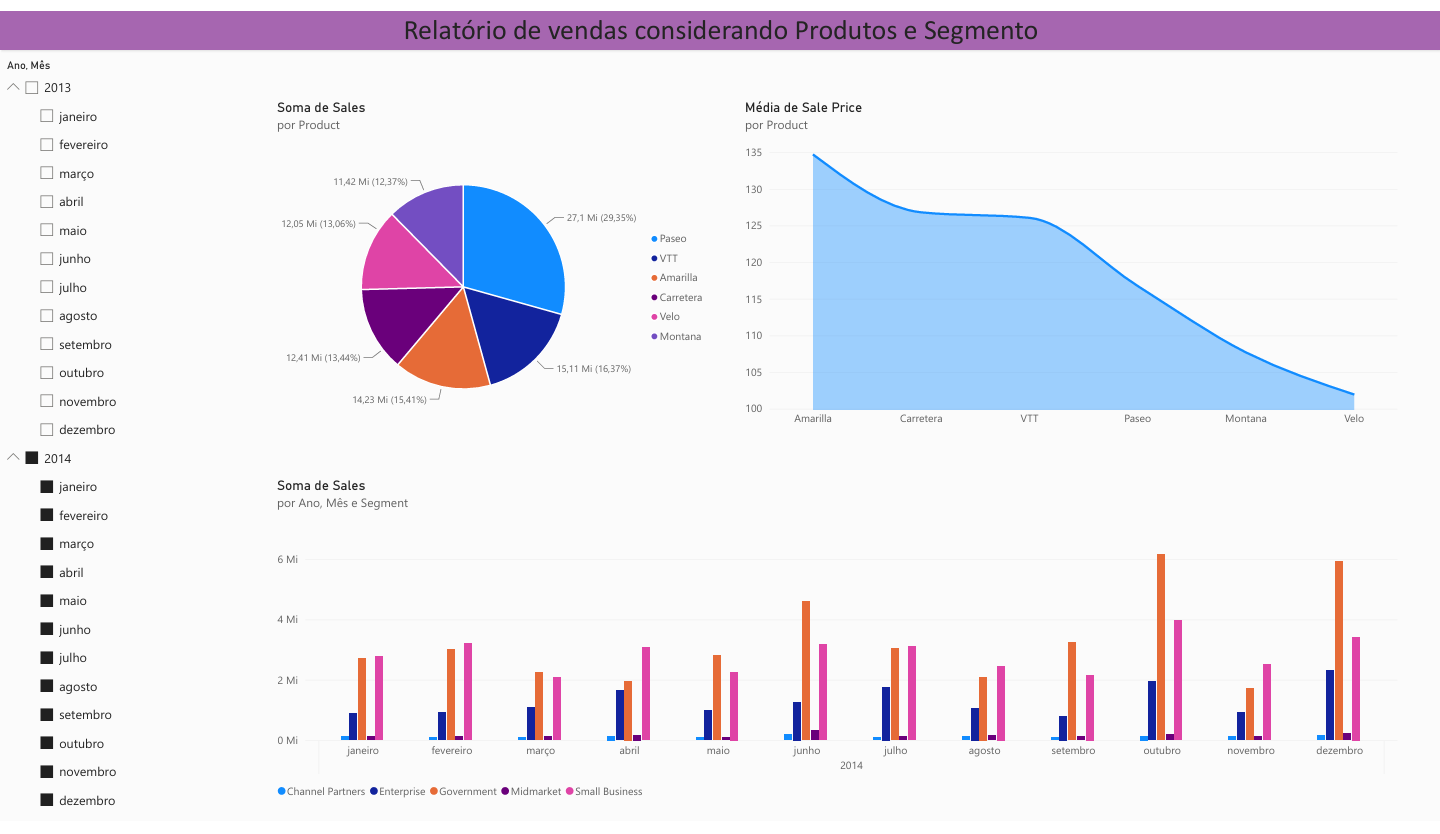

What the dashboard file says about the page in this screenshot:
{"tool":"powerbi","page":{"name":"Página 1","canvas":[1920,1080],"ordinal":0},"visuals":[{"type":"pieChart","fields":{"Category":["financials.Product"],"Y":["Sum(financials.Sales)"]},"box":[352.2,101.9,608.5,470.6],"z":0},{"type":"areaChart","fields":{"Category":["financials.Product"],"Y":["Avg(financials.Sale Price)"]},"box":[975.7,101.9,902.3,470.6],"z":1000},{"type":"clusteredColumnChart","fields":{"Category":["financials.Date.Variation.Hierarquia de datas.Ano","financials.Date.Variation.Hierarquia de datas.Mês"],"Y":["Sum(financials.Sales)"],"Series":["financials.Segment"]},"box":[352.2,605.5,1525.8,463.1],"z":2000},{"type":"slicer","fields":{"Values":["financials.Date.Variation.Hierarquia de datas.Ano","financials.Date.Variation.Hierarquia de datas.Mês"]},"box":[0,63,352.2,1017.7],"z":3000},{"type":"textbox","box":[0,0,1920,51],"z":4000}]}

Visuals, with their boxes in screenshot pixels (x1, y1, x2, y2), scaled from the page's 1920x1080 canvas onto the 1440x834 screenshot:
pieChart - financials.Product x Sum(financials.Sales): 264:79:721:442
areaChart - financials.Product x Avg(financials.Sale Price): 732:79:1408:442
clusteredColumnChart - financials.Date.Variation.Hierarquia de datas.Ano x financials.Date.Variation.Hierarquia de datas.Mês: 264:468:1408:825
slicer - financials.Date.Variation.Hierarquia de datas.Ano x financials.Date.Variation.Hierarquia de datas.Mês: 0:49:264:833
textbox: 0:0:1439:39
